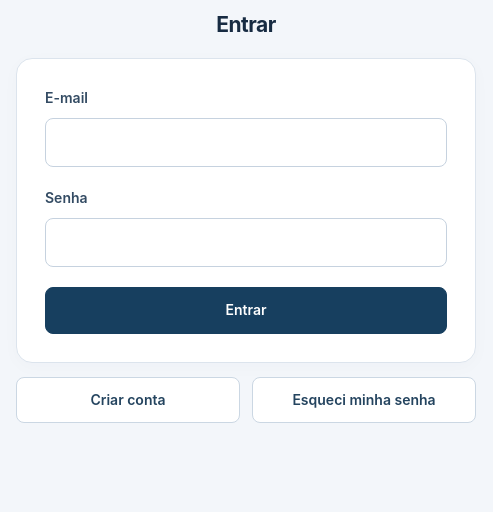
Test: acesso real via cliente de Auth › valida campos antes de enviar credenciais
Click the button "Entrar" at coordinates (246, 310), box x1=45 y1=287 x2=447 y2=334
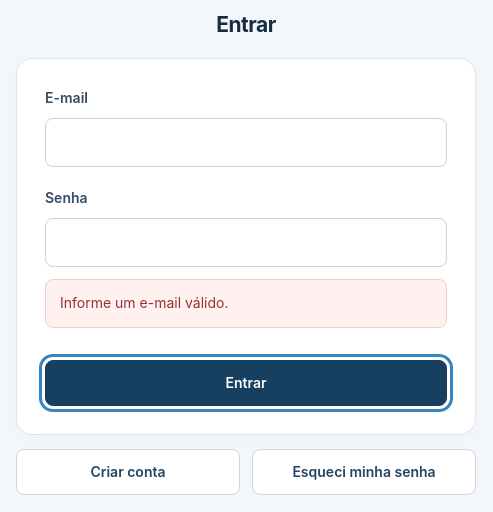
Expected: the message shows "e-mail válido", x1=60 y1=294 x2=228 y2=311
